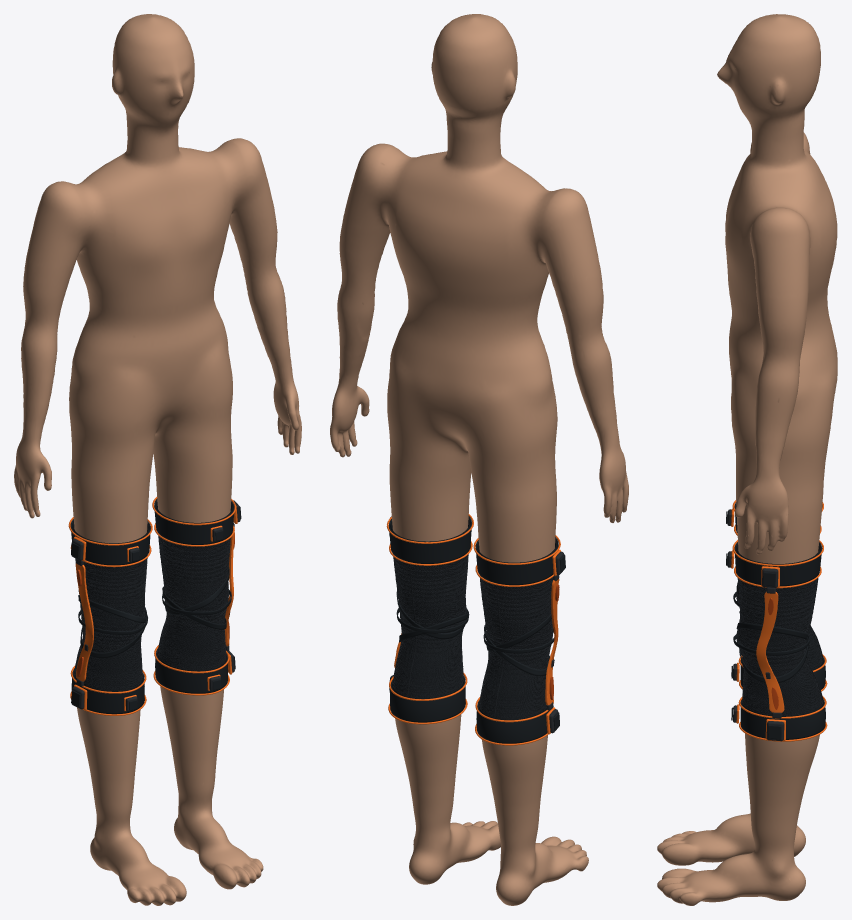
The model's file is kintra.glb.
3 renders of one model, left to right at view 1: azimuth 30°, elevation 25°; view 2: azimuth 150°, elevation 25°; view 3: azimuth 270°, elevation 25°, orthographic. The views are drawn at different scales.
Visible parts, largest first — view 1: Human - Athletic Body - Continuous Skin.001 web, Left - Sleeve - Subtle Black Knit Relief.001 web, Left - Sleeve - Solid Black Compression Base.001 web, Right - Sleeve - Subtle Black Knit Relief.001 web, Right - Sleeve - Solid Black Compression Base.001 web, Left - Strap - Upper Thigh.001 web, Left - Strap - Lower Calf.001 web, Right - Strap - Upper Thigh.001 web, Right - Strap - Lower Calf.001 web, Right - Support - Orange Lateral Contoured Stay.001 web; view 2: Human - Athletic Body - Continuous Skin.001 web, Left - Sleeve - Subtle Black Knit Relief.001 web, Right - Sleeve - Subtle Black Knit Relief.001 web, Left - Sleeve - Solid Black Compression Base.001 web, Right - Sleeve - Solid Black Compression Base.001 web, Left - Strap - Upper Thigh.001 web, Left - Strap - Lower Calf.001 web, Right - Strap - Upper Thigh.001 web, Right - Strap - Lower Calf.001 web, Right - Support - Orange Lateral Contoured Stay.001 web; view 3: Human - Athletic Body - Continuous Skin.001 web, Left - Sleeve - Subtle Black Knit Relief.001 web, Left - Sleeve - Solid Black Compression Base.001 web, Left - Strap - Lower Calf.001 web, Left - Strap - Upper Thigh.001 web, Left - Support - Orange Lateral Contoured Stay.001 web, Right - Sleeve - Subtle Black Knit Relief.001 web, Left - Support Wrap - Lower Diagonal.001 web, Left - Support Wrap - Upper Diagonal.001 web, Right - Sleeve - Solid Black Compression Base.001 web.
Part boxes in pixels (x1,y1,x2,y2): Human - Athletic Body - Continuous Skin.001 web: (14,14,301,905); Left - Sleeve - Subtle Black Knit Relief.001 web: (157,536,230,670); Left - Sleeve - Solid Black Compression Base.001 web: (156,501,232,671); Right - Sleeve - Subtle Black Knit Relief.001 web: (74,558,147,691); Right - Sleeve - Solid Black Compression Base.001 web: (72,521,148,691); Left - Strap - Upper Thigh.001 web: (154,499,234,544); Left - Strap - Lower Calf.001 web: (155,648,228,693); Right - Strap - Upper Thigh.001 web: (70,519,150,565); Right - Strap - Lower Calf.001 web: (71,668,144,714); Right - Support - Orange Lateral Contoured Stay.001 web: (75,563,93,681); Human - Athletic Body - Continuous Skin.001 web: (330,14,628,905); Left - Sleeve - Subtle Black Knit Relief.001 web: (392,554,468,698); Right - Sleeve - Subtle Black Knit Relief.001 web: (479,575,553,719); Left - Sleeve - Solid Black Compression Base.001 web: (390,519,469,699); Right - Sleeve - Solid Black Compression Base.001 web: (477,540,556,720); Left - Strap - Upper Thigh.001 web: (388,516,471,563); Left - Strap - Lower Calf.001 web: (390,676,465,722); Right - Strap - Upper Thigh.001 web: (475,537,558,585); Right - Strap - Lower Calf.001 web: (476,700,549,743); Right - Support - Orange Lateral Contoured Stay.001 web: (545,579,559,705); Human - Athletic Body - Continuous Skin.001 web: (657,14,837,905); Left - Sleeve - Subtle Black Knit Relief.001 web: (736,578,822,716); Left - Sleeve - Solid Black Compression Base.001 web: (736,544,823,716); Left - Strap - Lower Calf.001 web: (740,699,825,739); Left - Strap - Upper Thigh.001 web: (734,542,822,586); Left - Support - Orange Lateral Contoured Stay.001 web: (756,591,784,712); Right - Sleeve - Subtle Black Knit Relief.001 web: (736,592,822,669); Left - Support Wrap - Lower Diagonal.001 web: (739,637,808,682); Left - Support Wrap - Upper Diagonal.001 web: (736,622,808,640); Right - Sleeve - Solid Black Compression Base.001 web: (737,596,822,670).
Bounding box in the file's own units: 0.6211 × 1.83 × 0.3469.
